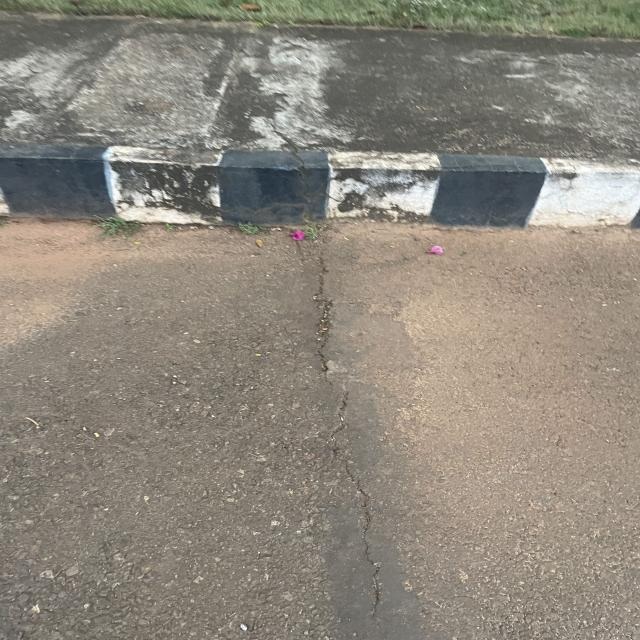D01: (284, 238, 463, 640)
